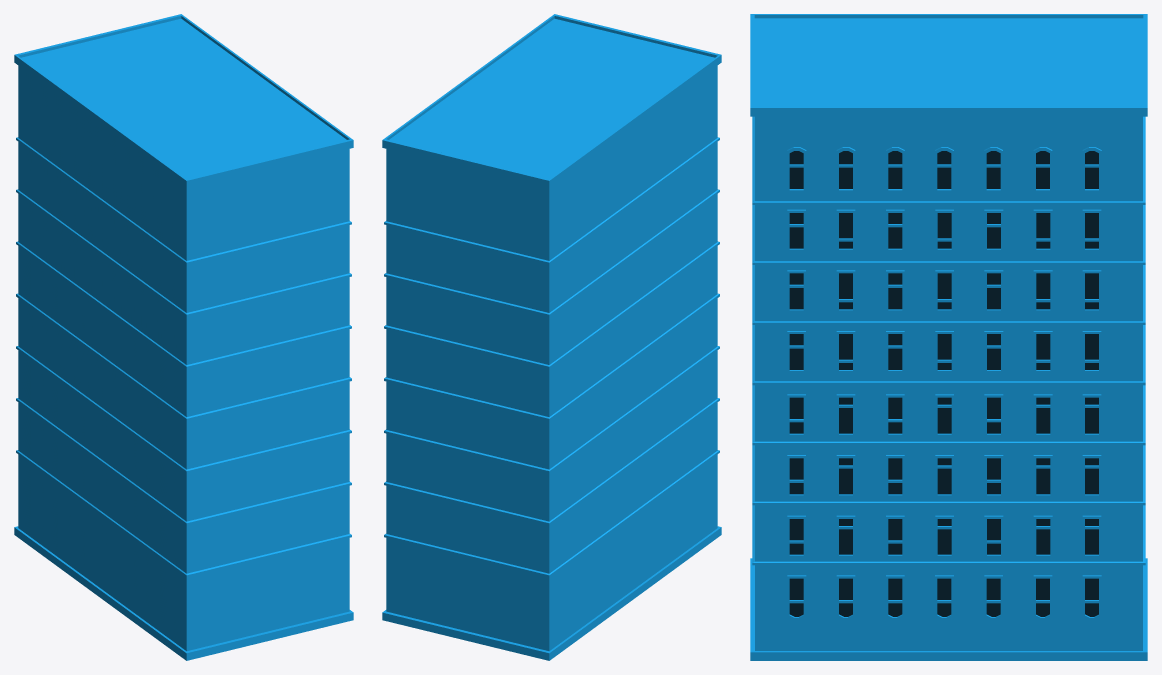
Rendered from Building_011.FBX.
3 renders of one model, left to right at view 1: azimuth 30°, elevation 25°; view 2: azimuth 150°, elevation 25°; view 3: azimuth 270°, elevation 25°, orthographic. The views are drawn at different scales.
Parts seen in each view (by area): view 1: Box1329; view 2: Box1329; view 3: Box1329.
Part boxes in pixels (left/top/right/bottom): Box1329: left=14, top=14, right=353, bottom=660; Box1329: left=382, top=14, right=721, bottom=660; Box1329: left=750, top=14, right=1147, bottom=660.
Size of the model in its own units: 83.3 by 149 by 229.
